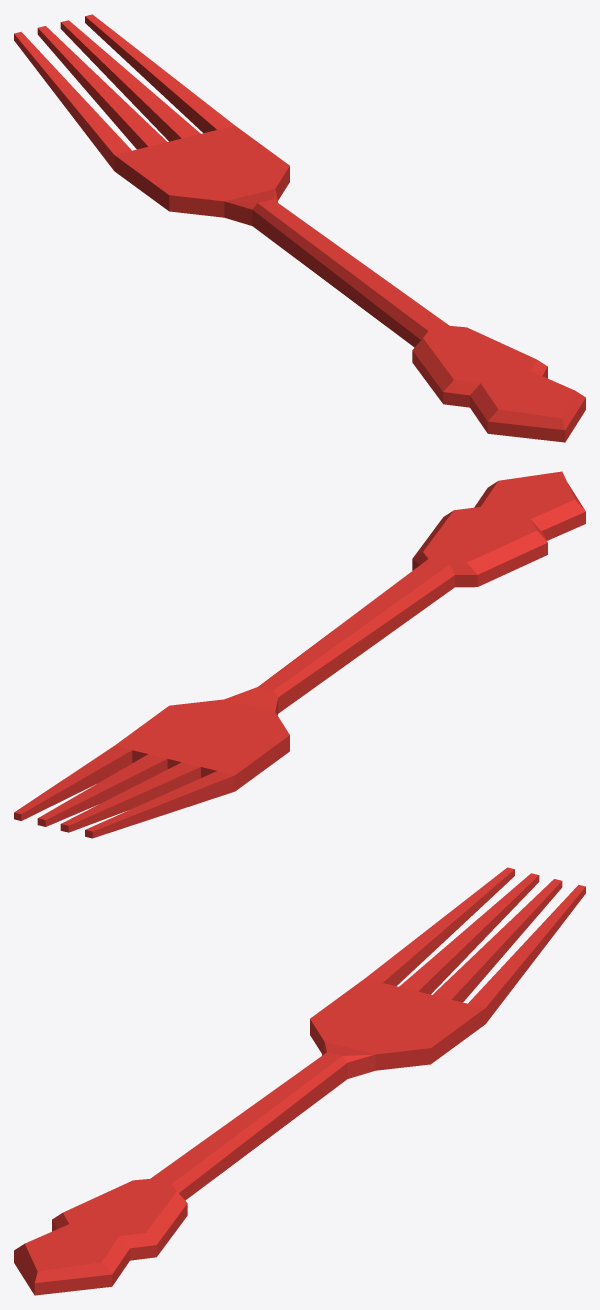
File: SM_Cutlery_Fork_Christmas.fbx
3 views of the same model, one above another, from view 1: azimuth 30°, elevation 25°; view 2: azimuth 150°, elevation 25°; view 3: azimuth 330°, elevation 25° (orthographic).
Parts seen in each view (by area): view 1: cutlery-fork-christmas; view 2: cutlery-fork-christmas; view 3: cutlery-fork-christmas.
Part boxes in pixels (x1=…): cutlery-fork-christmas: x1=14, y1=14, x2=585, y2=442; cutlery-fork-christmas: x1=14, y1=471, x2=585, y2=838; cutlery-fork-christmas: x1=14, y1=867, x2=585, y2=1295.
Bounding box in the file's own units: 0.0395 × 0.0137 × 0.2897.
